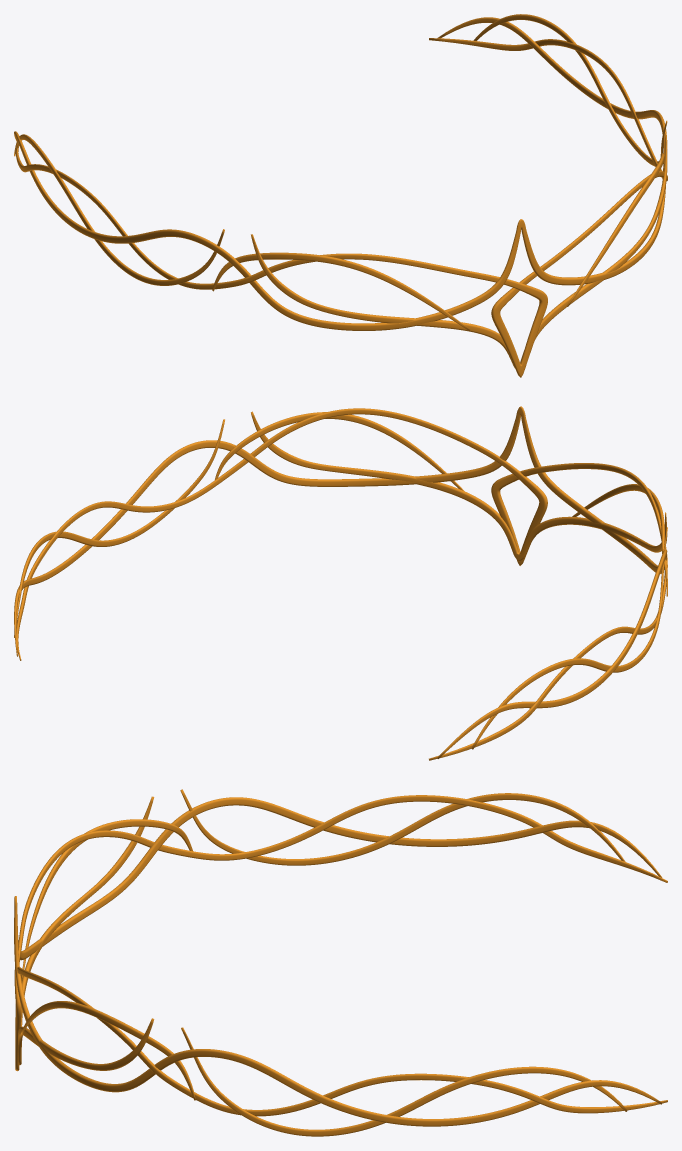
File: uploads_files_3945946_diadema.fbx
3 views of the same model, one above another, from view 1: azimuth 30°, elevation 25°; view 2: azimuth 150°, elevation 25°; view 3: azimuth 270°, elevation 25° (orthographic). The views are drawn at different scales.
Visible parts, largest first — view 1: diadema.; view 2: diadema.; view 3: diadema..
Part boxes in pixels (x1=…): diadema.: x1=14, y1=14, x2=667, y2=377; diadema.: x1=14, y1=406, x2=667, y2=760; diadema.: x1=14, y1=789, x2=667, y2=1136.
Bounding box in the file's own units: 15.88 × 4.61 × 15.6.
